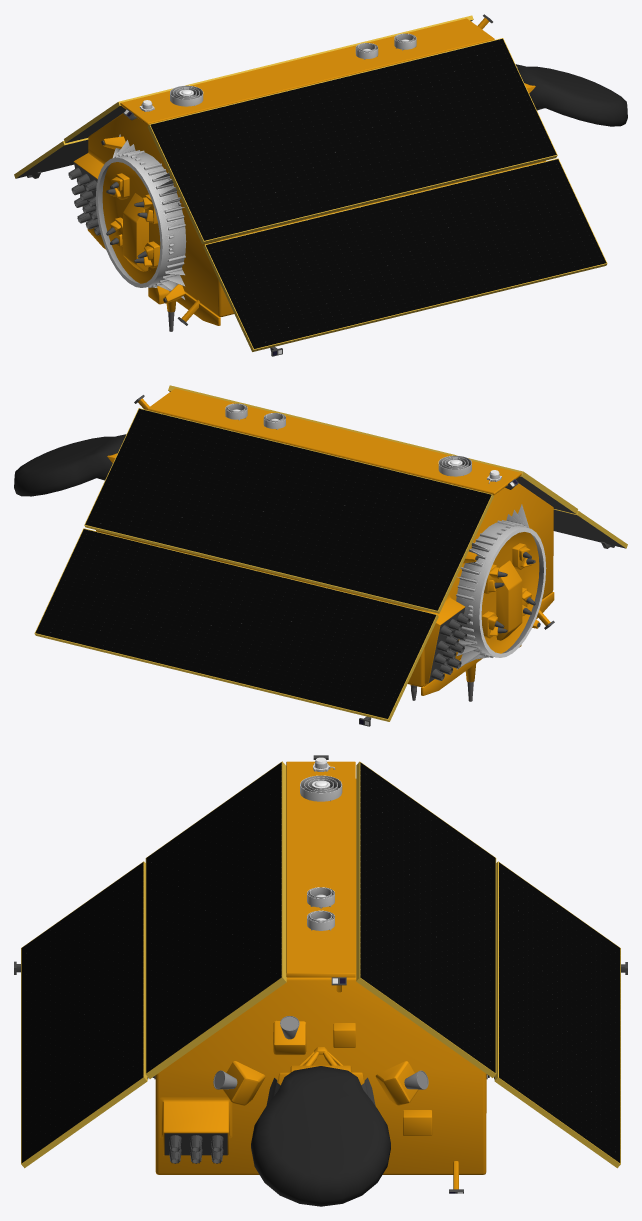
File: Sentinel6.fbx
3 renders of one model, top to bottom at view 1: azimuth 30°, elevation 25°; view 2: azimuth 150°, elevation 25°; view 3: azimuth 270°, elevation 25°, orthographic. The views are drawn at different scales.
Parts seen in each view (by area): view 1: Sentinel6; view 2: Sentinel6; view 3: Sentinel6.
Boxes of the visible parts, x1=… form: Sentinel6: x1=14, y1=14, x2=627, y2=356; Sentinel6: x1=14, y1=385, x2=627, y2=726; Sentinel6: x1=14, y1=755, x2=627, y2=1206.
Size of the model in its own units: 154 by 69.71 by 131.
Materials: 17 (4 with a texture image).
